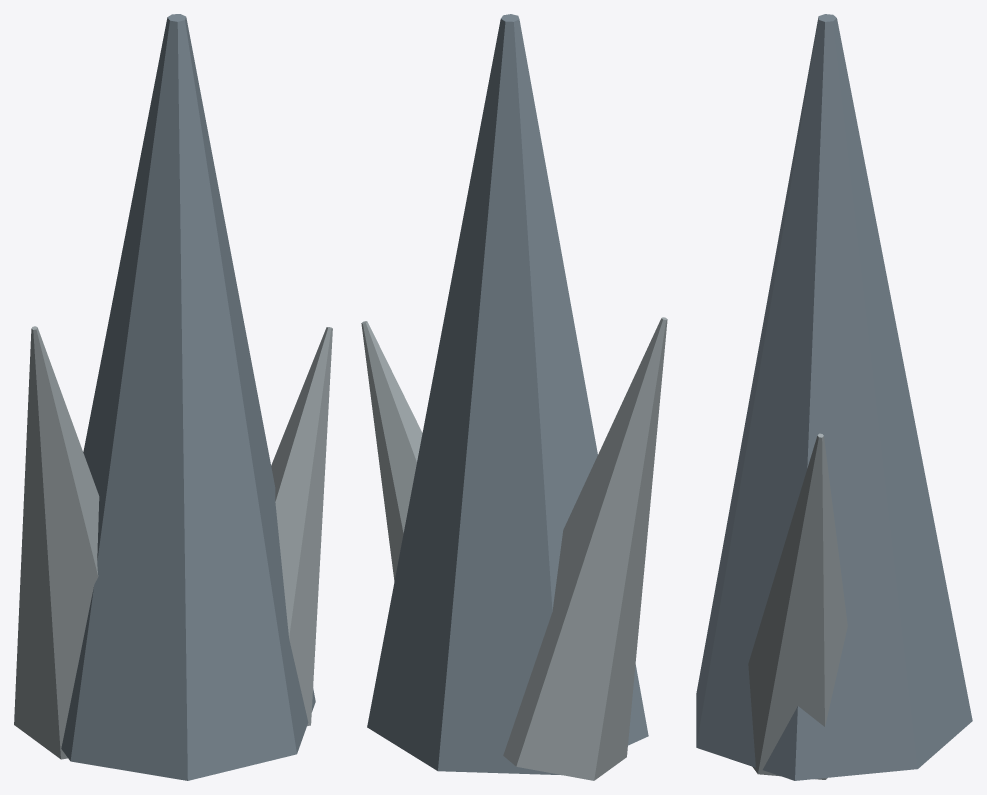
File: Landmark_01_LOD0.fbx
3 renders of one model, left to right at view 1: azimuth 30°, elevation 25°; view 2: azimuth 150°, elevation 25°; view 3: azimuth 270°, elevation 25°, orthographic.
Visible parts, largest first — view 1: Landmark_01_LOD0; view 2: Landmark_01_LOD0; view 3: Landmark_01_LOD0.
Part boxes in pixels (x1,y1,x2,y2): Landmark_01_LOD0: [14, 14, 332, 780]; Landmark_01_LOD0: [361, 14, 667, 780]; Landmark_01_LOD0: [696, 14, 972, 780].
Bounding box in the file's own units: 217 × 488 × 171.
